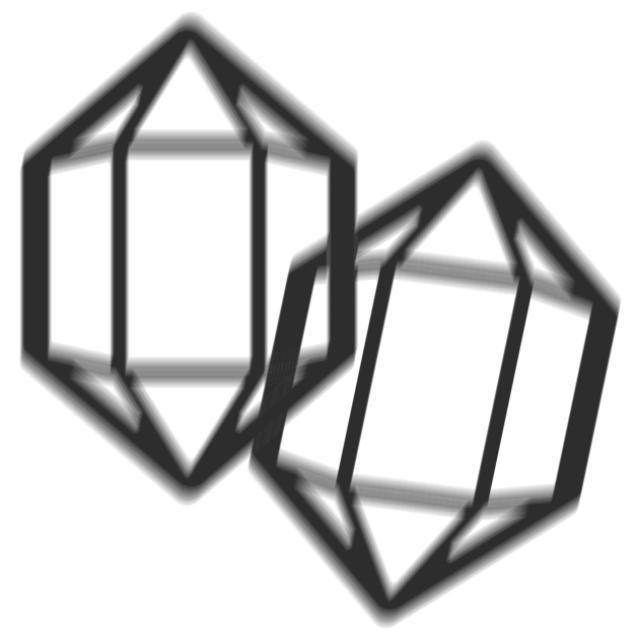crystal: (231, 129, 633, 639), (7, 4, 374, 513)
